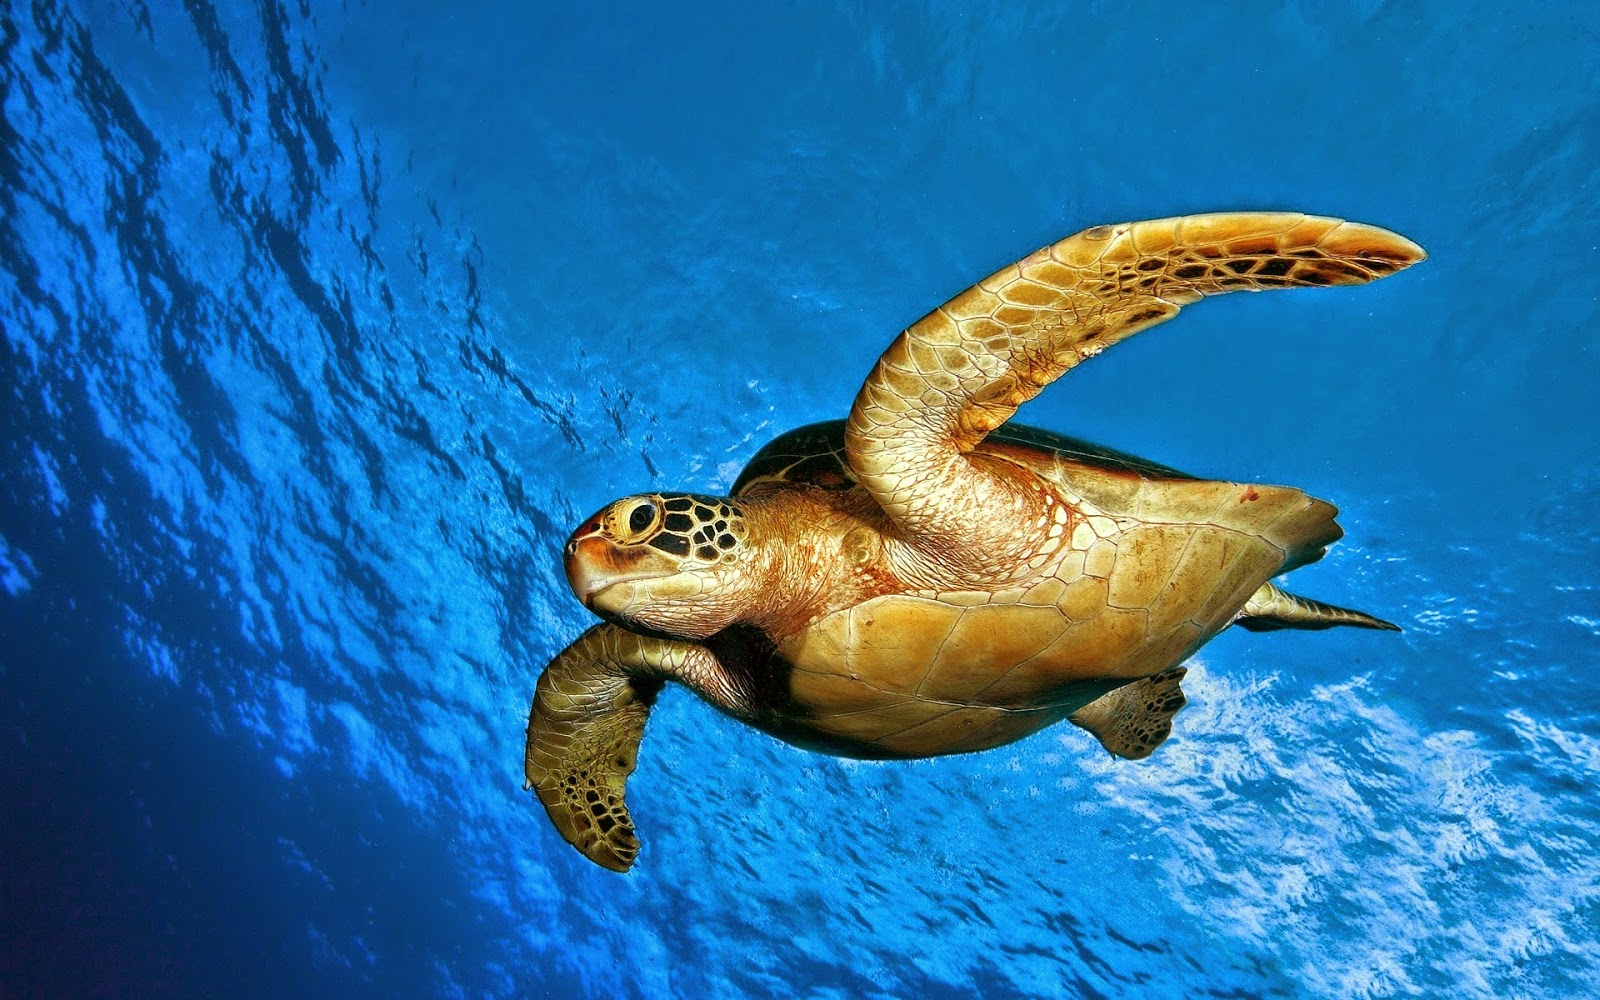eye: (620, 501, 665, 537)
mouth: (570, 563, 728, 621)
